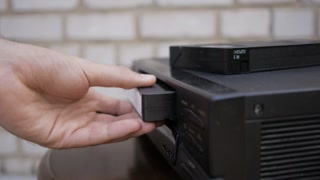Rec_Paper: (115, 23, 317, 179)
